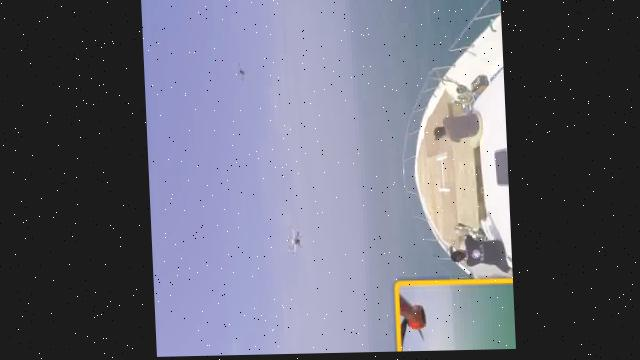drone: (280, 222, 305, 262), (230, 59, 247, 89)
